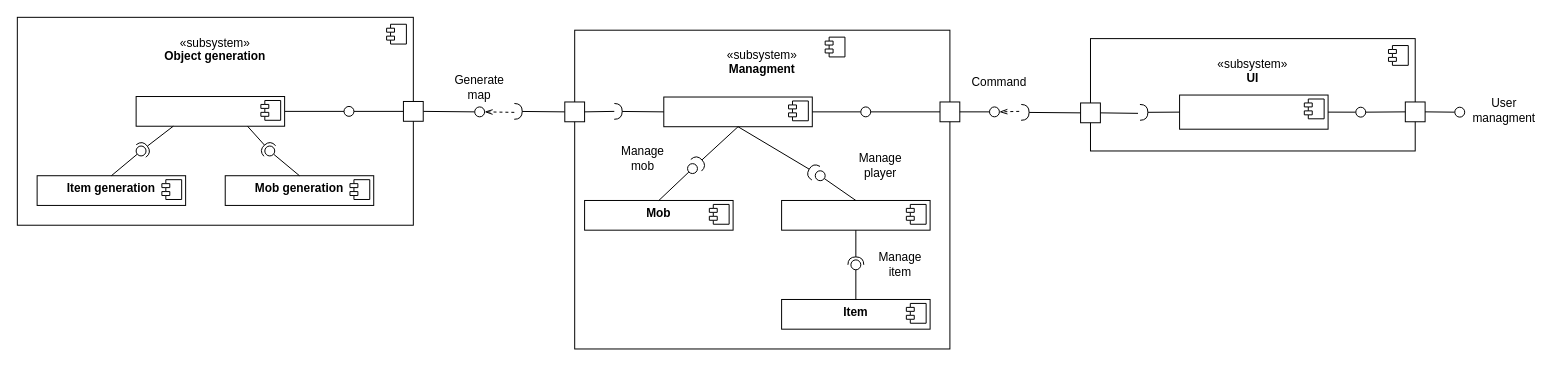
This 1552x366 diagram has some shape labels left out. The centre of each missing label's shape, as x and y in pixels:
Game: point (737, 111)
Map generation: point (210, 111)
Player: point (855, 214)
Window: point (1253, 111)
